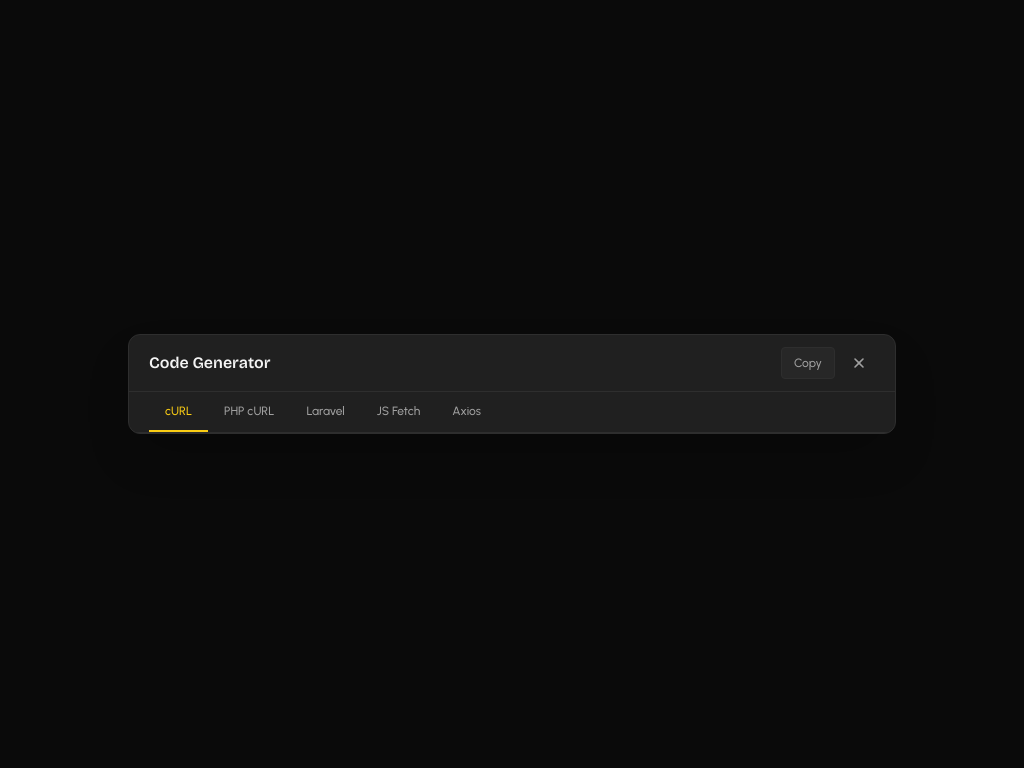
Scenario: CodeGeneratorModal › copy button (req 7.5) › shows "Could not copy" toast text when the clipboard write fails
Click the button with aria-label "Copy snippet": (808, 363) [781,347,835,379]
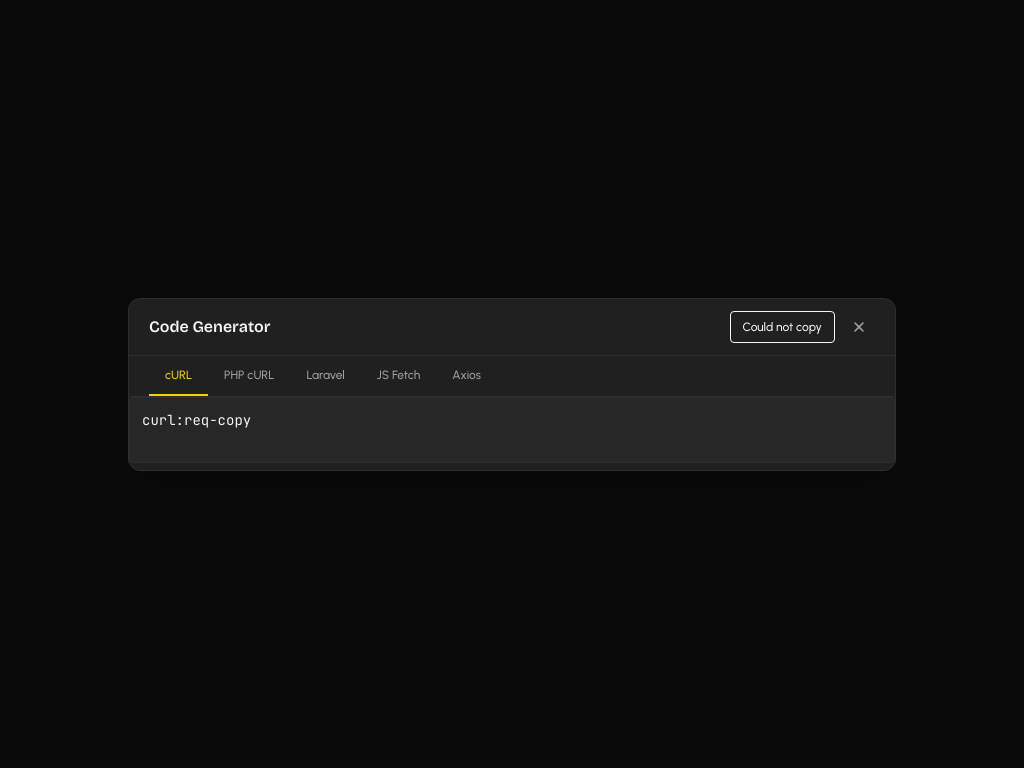
Expected: the text "Could not copy" is shown, [730,310,835,342]
